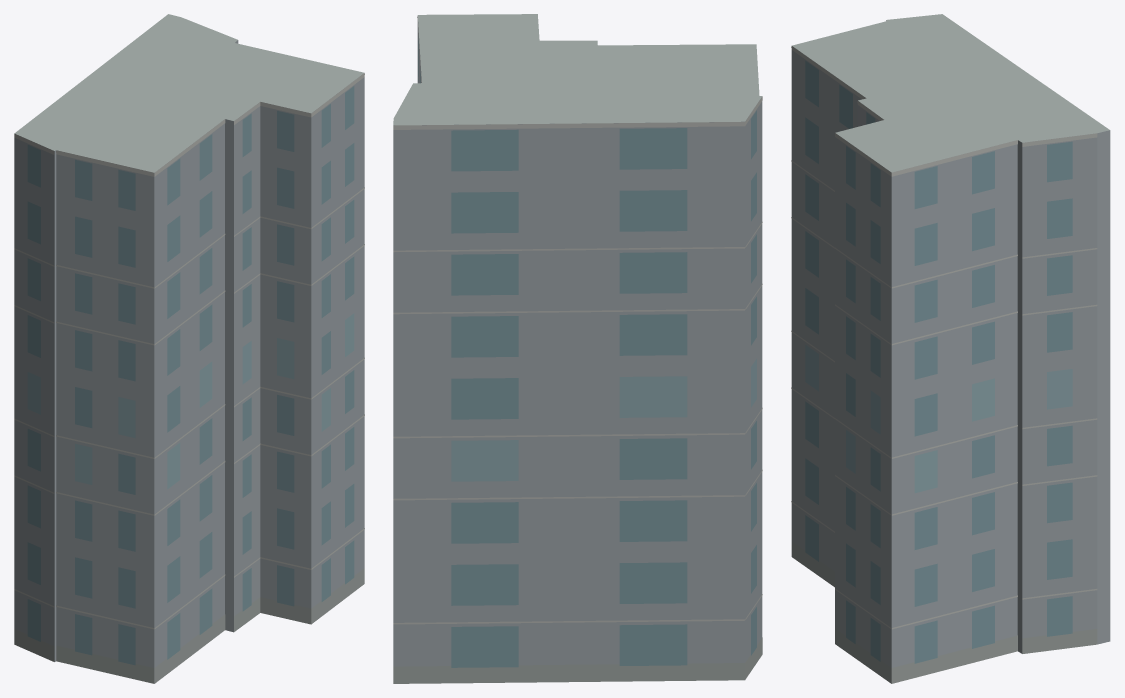
File: survey-upis-32922900.glb
3 renders of one model, left to right at view 1: azimuth 30°, elevation 25°; view 2: azimuth 150°, elevation 25°; view 3: azimuth 270°, elevation 25°, orthographic. The views are drawn at different scales.
Parts seen in each view (by area): view 1: survey-upis-32922900.tmp; view 2: survey-upis-32922900.tmp; view 3: survey-upis-32922900.tmp.
Part boxes in pixels (x1,y1,x2,y2): survey-upis-32922900.tmp: (14, 14, 364, 683); survey-upis-32922900.tmp: (393, 14, 762, 683); survey-upis-32922900.tmp: (791, 14, 1110, 683).
Size of the model in its own units: 19.85 by 29.8 by 16.85.
